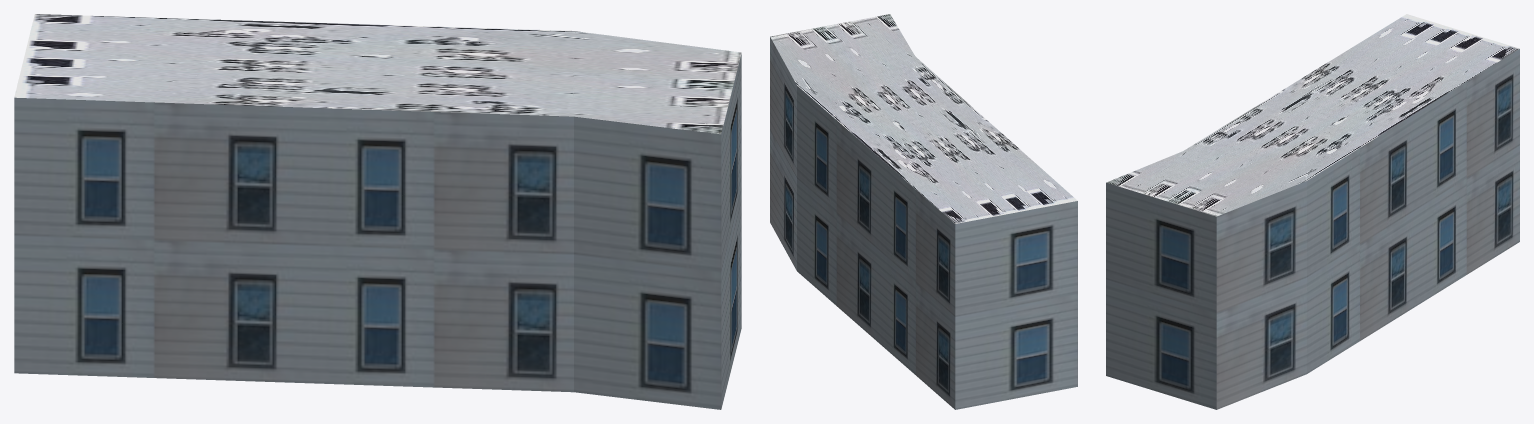
Rendered from ResTex__1034.fbx.
The picture shows the model from 3 angles, left to right: view 1: azimuth 30°, elevation 25°; view 2: azimuth 150°, elevation 25°; view 3: azimuth 270°, elevation 25°; orthographic projection. The views are drawn at different scales.
Visible parts, largest first — view 1: CityEngineMaterial_18_m, CityEngineMaterial_2_m; view 2: CityEngineMaterial_18_m, CityEngineMaterial_2_m; view 3: CityEngineMaterial_18_m, CityEngineMaterial_2_m.
Part boxes in pixels (left/top/right/bottom): CityEngineMaterial_18_m: left=14, top=54, right=741, bottom=409; CityEngineMaterial_2_m: left=14, top=14, right=741, bottom=134; CityEngineMaterial_18_m: left=770, top=37, right=1077, bottom=409; CityEngineMaterial_2_m: left=770, top=14, right=1077, bottom=223; CityEngineMaterial_18_m: left=1106, top=49, right=1519, bottom=409; CityEngineMaterial_2_m: left=1106, top=14, right=1519, bottom=216.
Bounding box in the file's own units: 13.49 × 6 × 11.64.
Materials: 2 (2 with a texture image).
